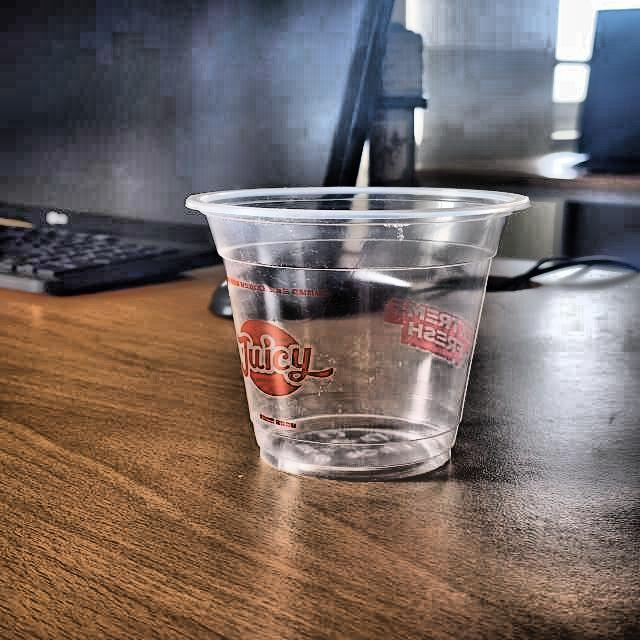plastic cup: (182, 184, 534, 483)
